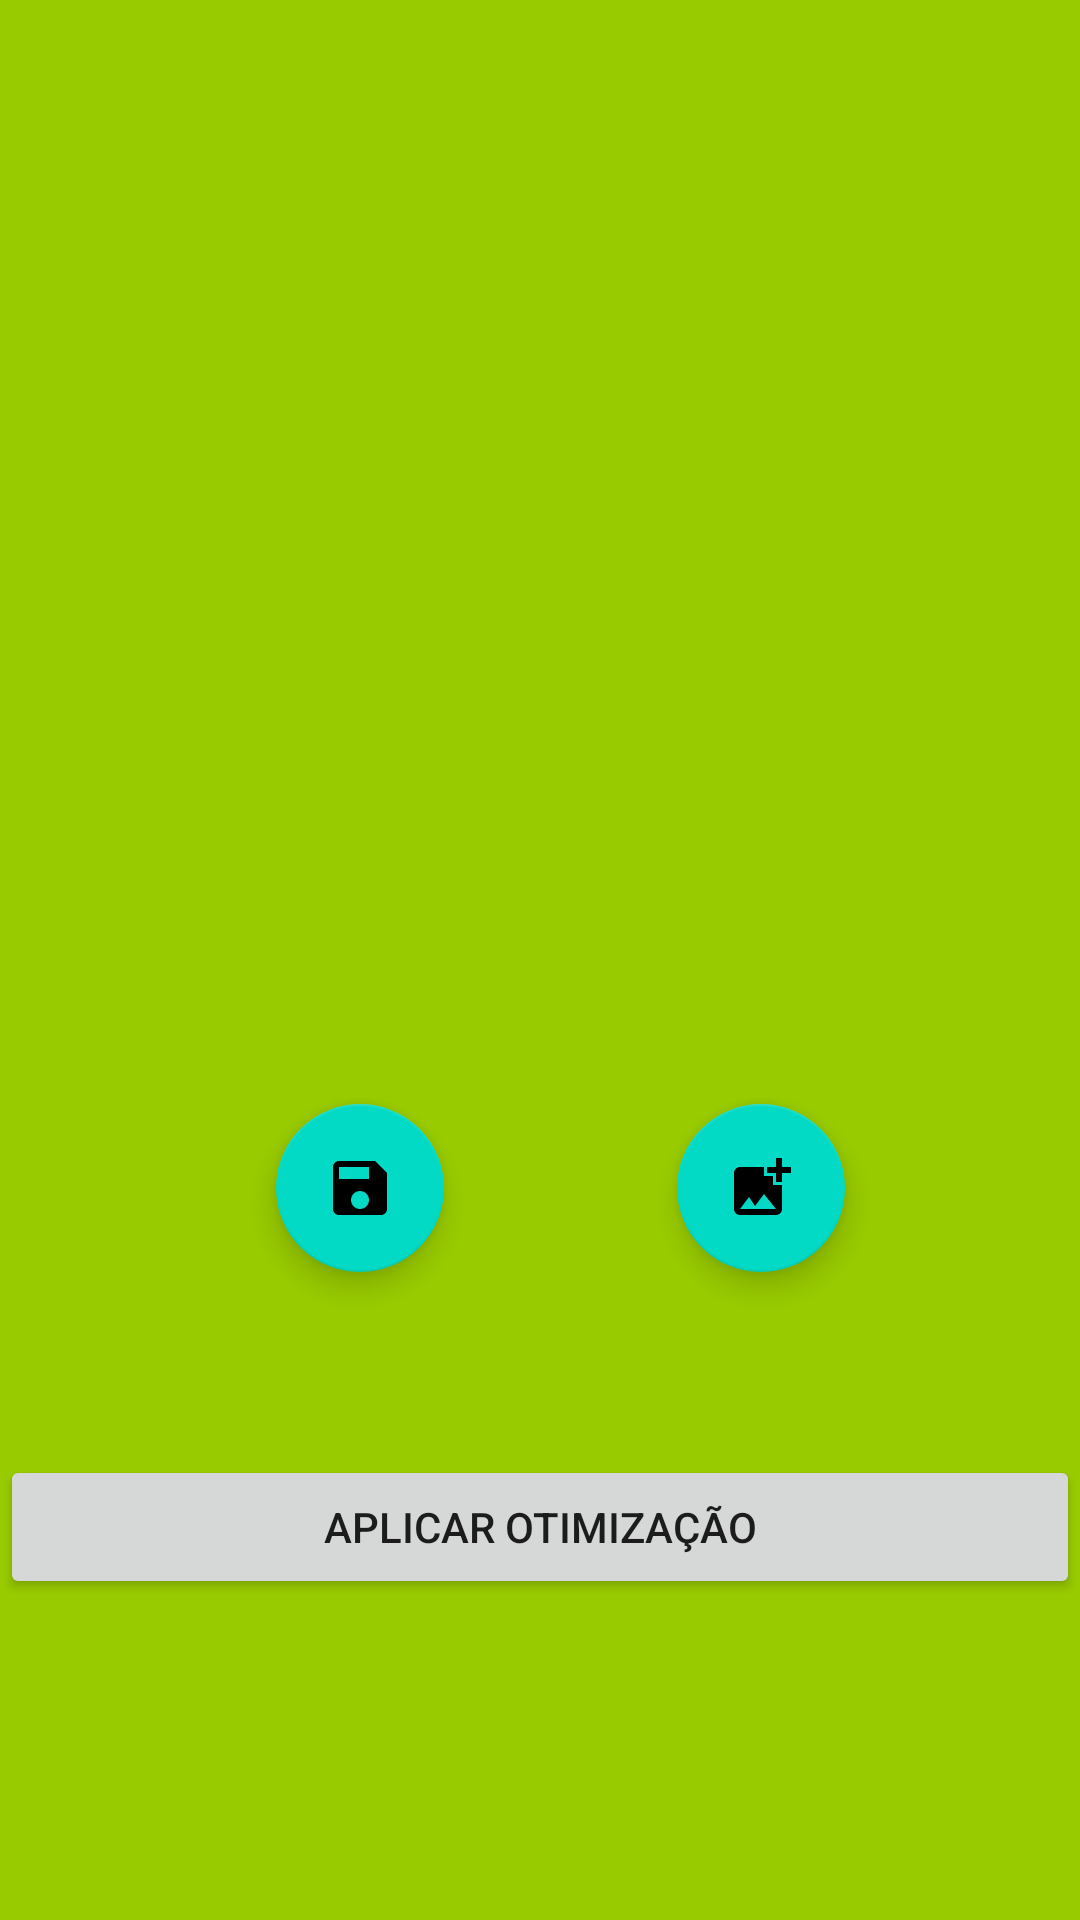

Screen size 1080px×1920px. Icon name, then its box in pixels as (x1, y1, x2, y2):
add photo alternate: (677, 1104, 845, 1272)
save: (276, 1104, 444, 1272)
